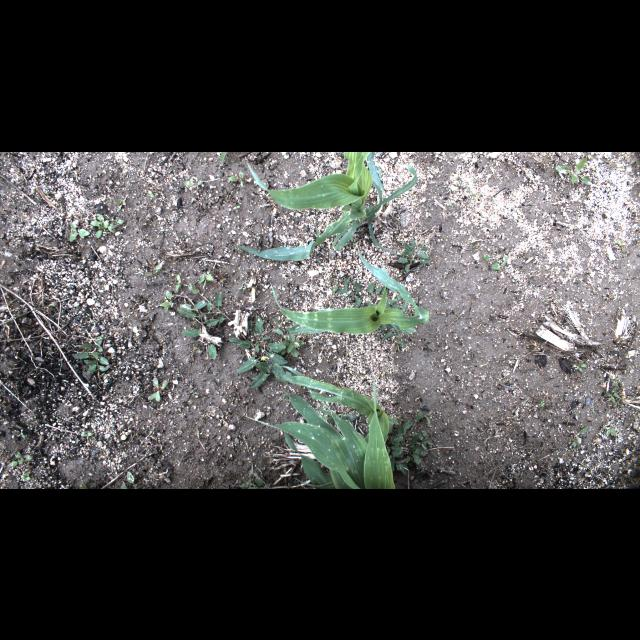crop: (235, 152, 420, 260), (244, 383, 396, 487), (270, 249, 428, 335), (276, 363, 390, 452)
weed: (329, 276, 411, 350), (238, 330, 308, 390), (178, 298, 222, 362), (388, 412, 432, 476), (188, 270, 232, 322), (226, 316, 282, 352), (71, 334, 109, 374), (398, 238, 432, 274), (553, 156, 591, 184), (90, 212, 124, 240), (147, 378, 167, 402), (70, 222, 92, 242), (158, 288, 174, 314), (570, 426, 588, 448), (120, 470, 140, 488), (9, 452, 33, 466), (490, 253, 508, 269), (228, 172, 245, 188), (182, 178, 204, 186), (18, 472, 32, 482), (174, 274, 182, 290)
